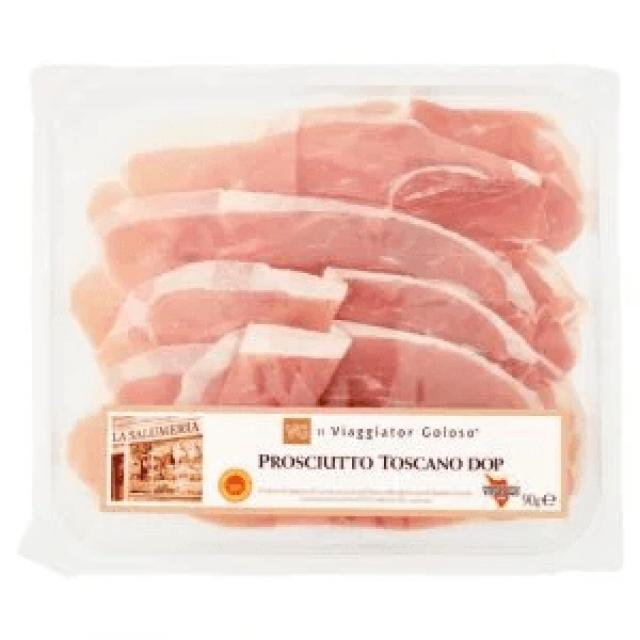Ham: (28, 64, 623, 576)
